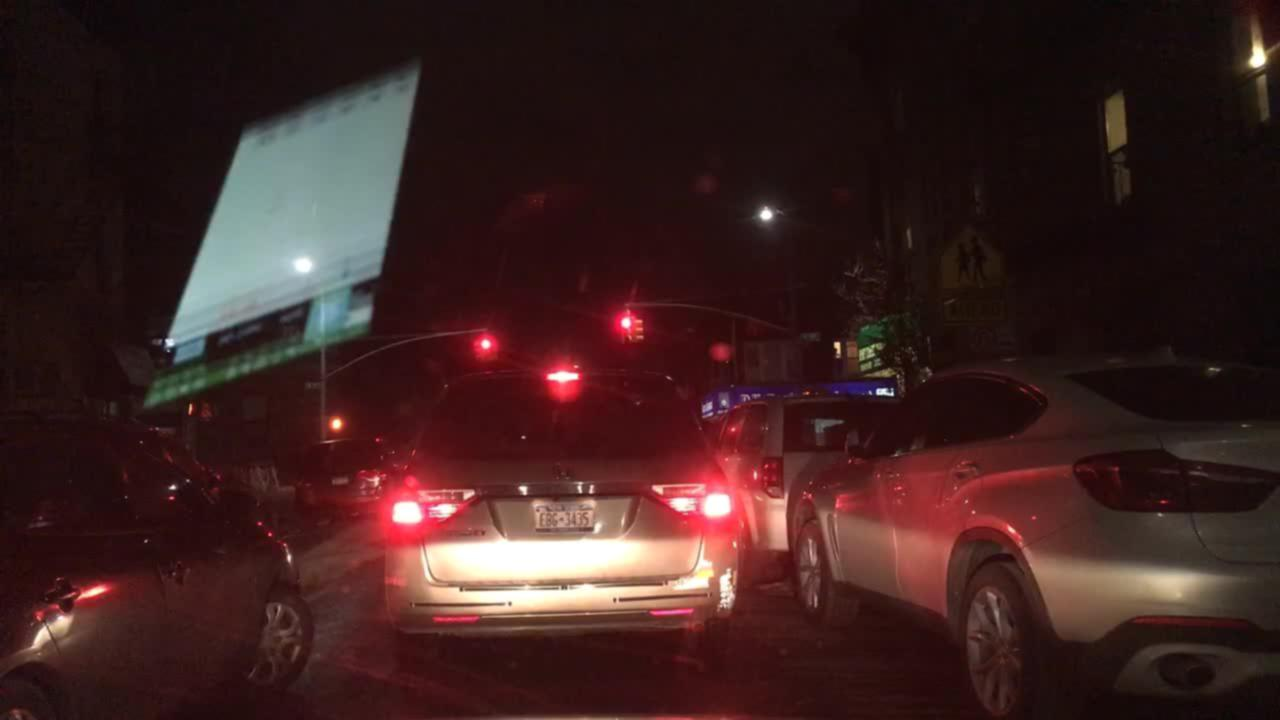Honda: (548, 456, 585, 487)
